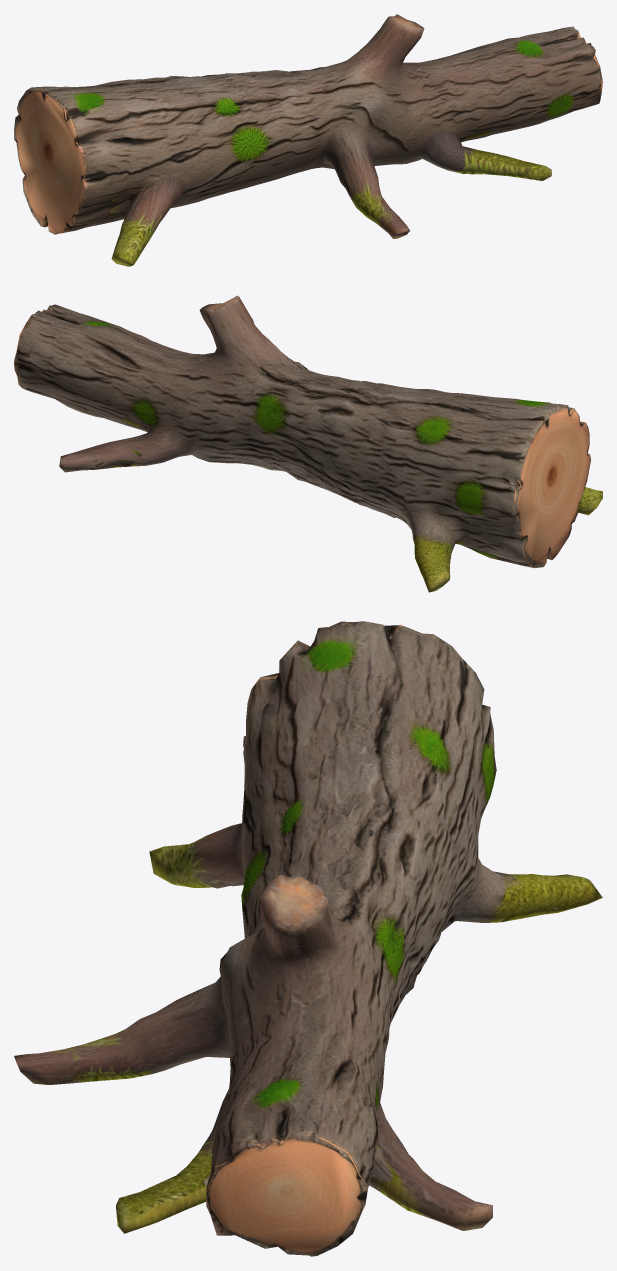
Rendered from Low_poly_Fallen_tree__1206123915_texture-v1.glb.
3 renders of one model, top to bottom at view 1: azimuth 30°, elevation 25°; view 2: azimuth 150°, elevation 25°; view 3: azimuth 270°, elevation 25°, orthographic. The views are drawn at different scales.
Visible parts, largest first — view 1: Mesh1.0; view 2: Mesh1.0; view 3: Mesh1.0.
Boxes of the visible parts, <box> form: Mesh1.0: <box>14,14,602,266</box>; Mesh1.0: <box>14,295,602,592</box>; Mesh1.0: <box>14,621,602,1256</box>.
Size of the model in its own units: 2.79 by 0.7999 by 1.6.
1 material, 1 textured.
